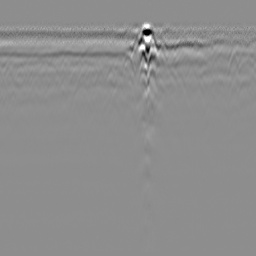cavity: (120, 54, 134, 76)
